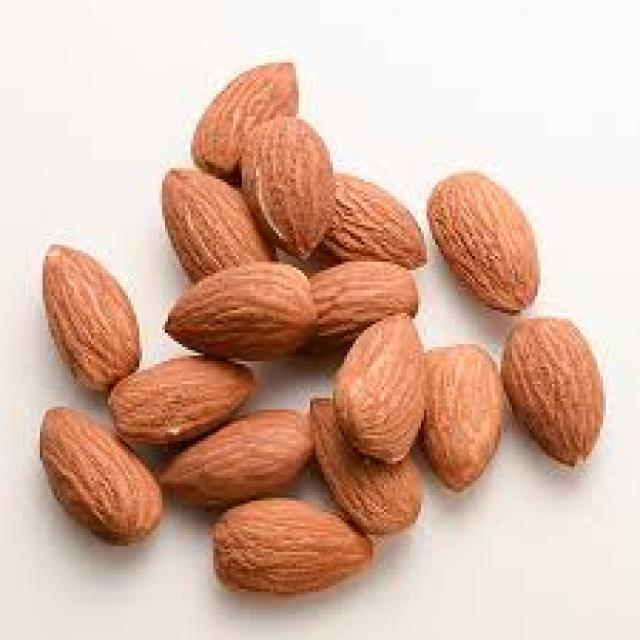almond: (40, 404, 167, 549), (303, 395, 427, 535), (159, 405, 319, 513), (500, 318, 607, 470), (427, 168, 540, 310), (217, 499, 377, 599), (45, 240, 142, 395), (158, 167, 280, 285), (167, 260, 318, 355), (238, 117, 337, 260), (189, 55, 304, 178), (109, 352, 259, 442), (419, 343, 509, 492), (338, 312, 425, 465), (304, 259, 424, 359), (312, 173, 430, 270)
